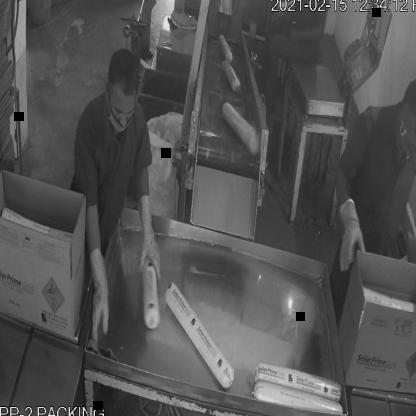glove: (134, 186, 166, 304), (84, 238, 116, 347), (332, 181, 367, 279)
no_glove: (283, 13, 330, 53)
